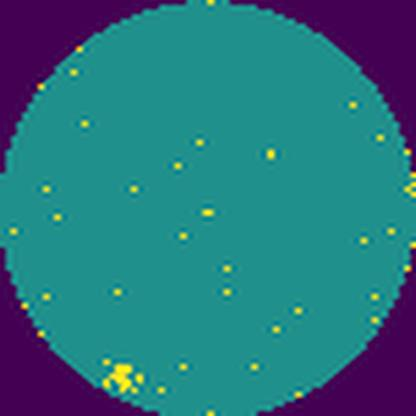Loc: (104, 364, 138, 398)
